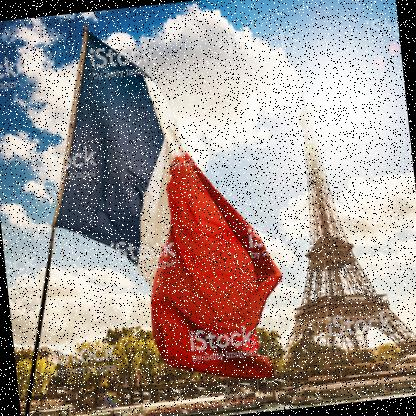fr: (42, 3, 292, 399)
